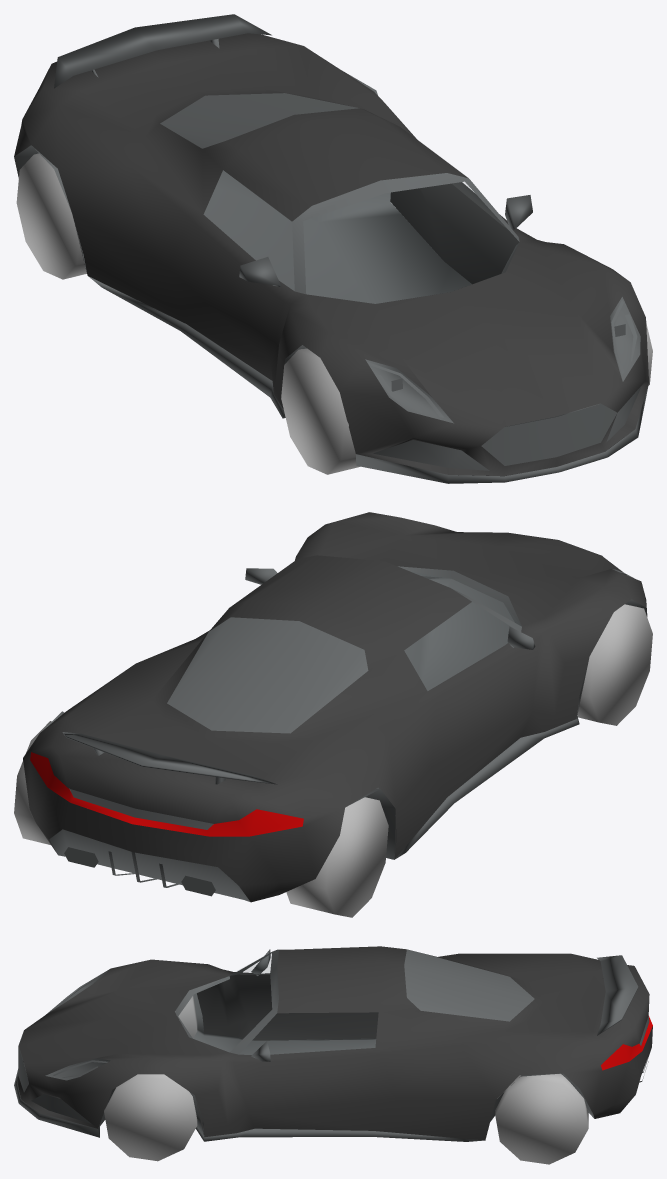
The model's file is Car_50_LOD2.FBX.
3 views of the same model, one above another, from view 1: azimuth 30°, elevation 25°; view 2: azimuth 150°, elevation 25°; view 3: azimuth 270°, elevation 25° (orthographic). The views are drawn at different scales.
Visible parts, largest first — view 1: Body_050_LOD2, Matte_050_LOD2, Wheel_R_LOD2, Wheel_Back_R_LOD2; view 2: Body_050_LOD2, Matte_050_LOD2, Wheel_Back_R_LOD2, Wheel_R_LOD2, Taillights_050_LOD2, Wheel_Back_L_LOD2; view 3: Body_050_LOD2, Matte_050_LOD2, Wheel_Back_L_LOD2, Wheel_L_LOD2, Taillights_050_LOD2, Wheel_R_LOD2, Glass_050_LOD2.
Part boxes in pixels (box(x1,y1,x2,y2)): Body_050_LOD2: box(14, 33, 648, 475); Matte_050_LOD2: box(14, 14, 648, 483); Wheel_R_LOD2: box(281, 348, 359, 474); Wheel_Back_R_LOD2: box(16, 153, 86, 279); Body_050_LOD2: box(23, 512, 646, 902); Matte_050_LOD2: box(42, 533, 647, 901); Wheel_Back_R_LOD2: box(286, 797, 388, 917); Wheel_R_LOD2: box(577, 604, 652, 725); Taillights_050_LOD2: box(30, 752, 303, 836); Wheel_Back_L_LOD2: box(14, 721, 51, 844); Body_050_LOD2: box(17, 946, 652, 1140); Matte_050_LOD2: box(14, 949, 651, 1141); Wheel_Back_L_LOD2: box(495, 1073, 588, 1164); Wheel_L_LOD2: box(104, 1074, 197, 1161); Taillights_050_LOD2: box(601, 1016, 652, 1070); Wheel_R_LOD2: box(178, 995, 197, 1037); Glass_050_LOD2: box(220, 954, 271, 980).
Size of the model in its own units: 1.99 by 1.14 by 4.6.
